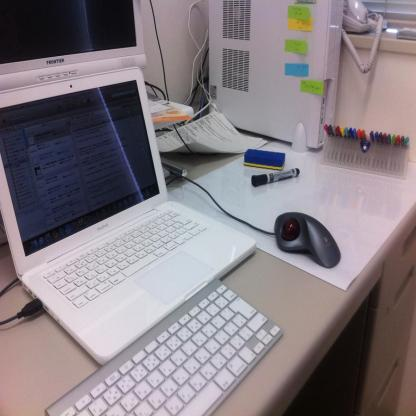board: (3, 50, 284, 402)
